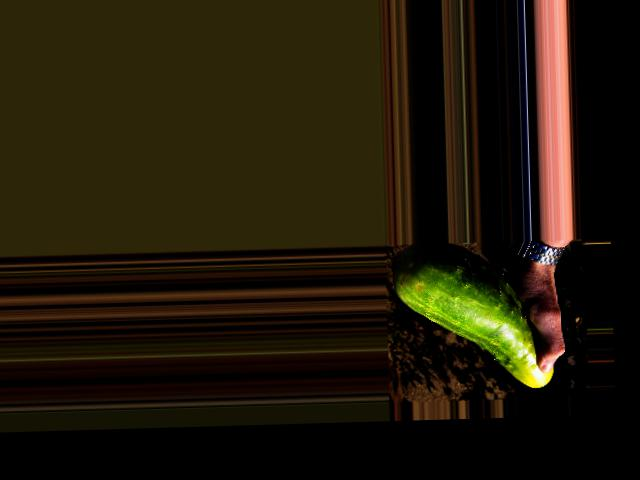cucumber: (390, 238, 554, 391)
